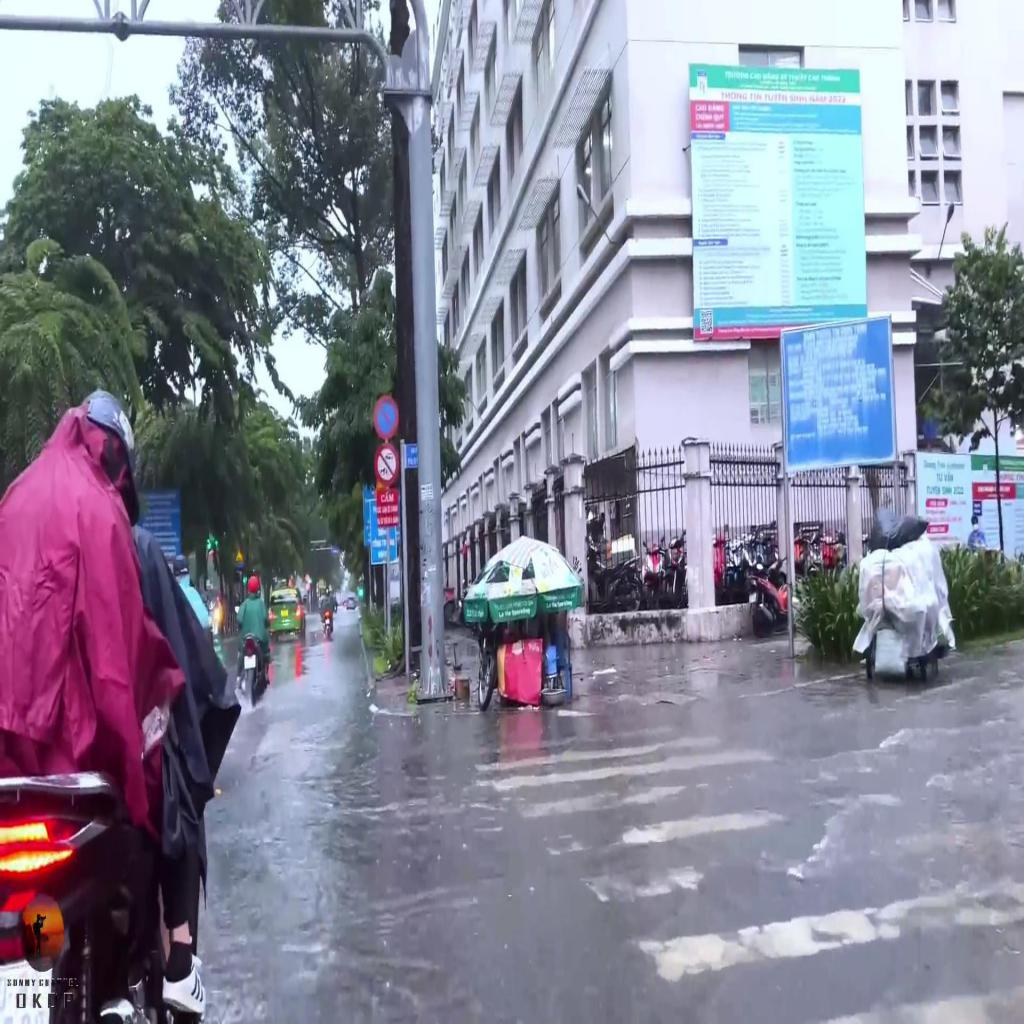cam_cac_loai_xe_3_banh: (376, 444, 398, 482)
cam_do_xe: (375, 396, 397, 434)
